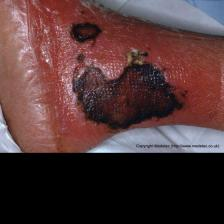Wound: (61, 50, 192, 134), (66, 16, 108, 41)
